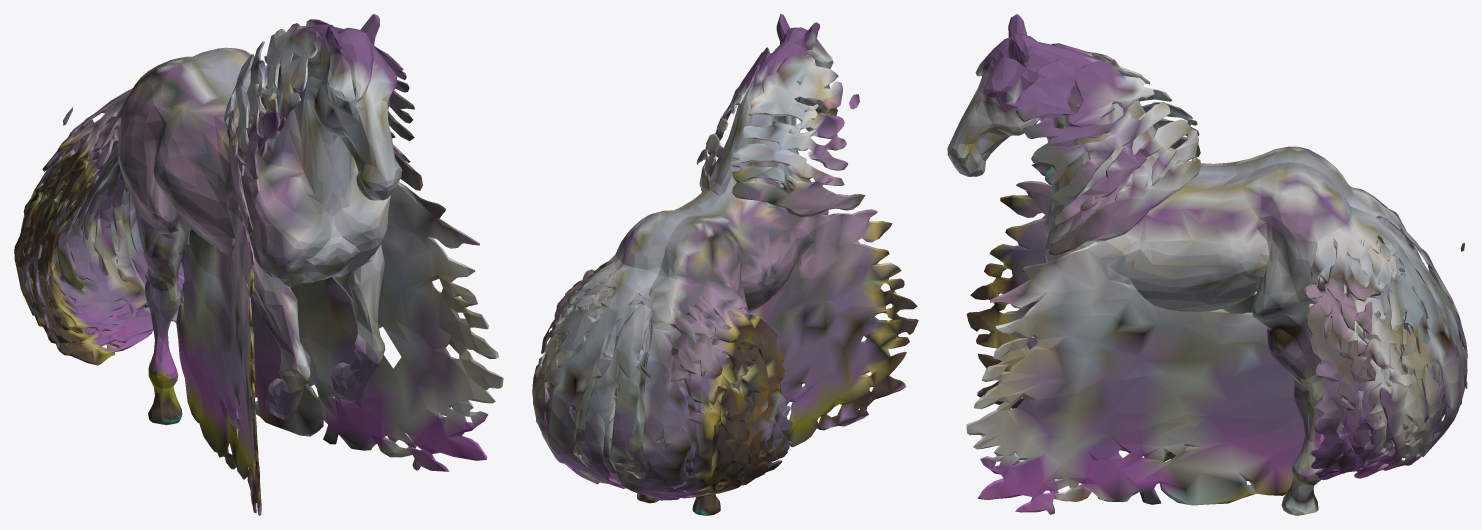
The model's file is mandrake.glb.
3 renders of one model, left to right at view 1: azimuth 30°, elevation 25°; view 2: azimuth 150°, elevation 25°; view 3: azimuth 270°, elevation 25°, orthographic. The views are drawn at different scales.
Parts seen in each view (by area): view 1: world; view 2: world; view 3: world.
Boxes of the visible parts, x1,y1,x2,y2 form: world: (14, 14, 503, 515); world: (532, 14, 918, 515); world: (947, 14, 1467, 515).
Bounding box in the file's own units: 0.639 × 1 × 1.
